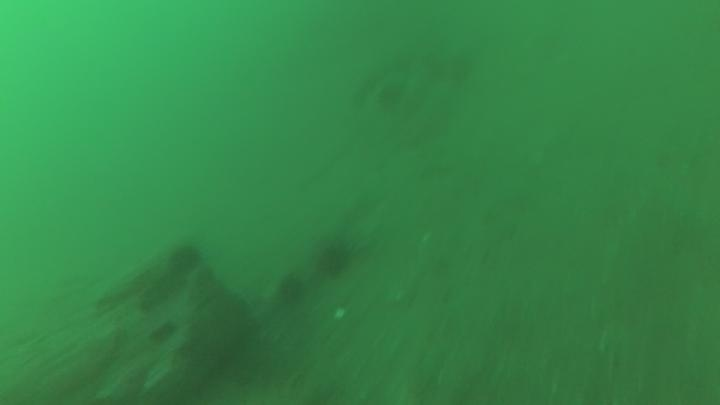echinus: (312, 236, 355, 280), (165, 240, 205, 277), (275, 271, 309, 307)
